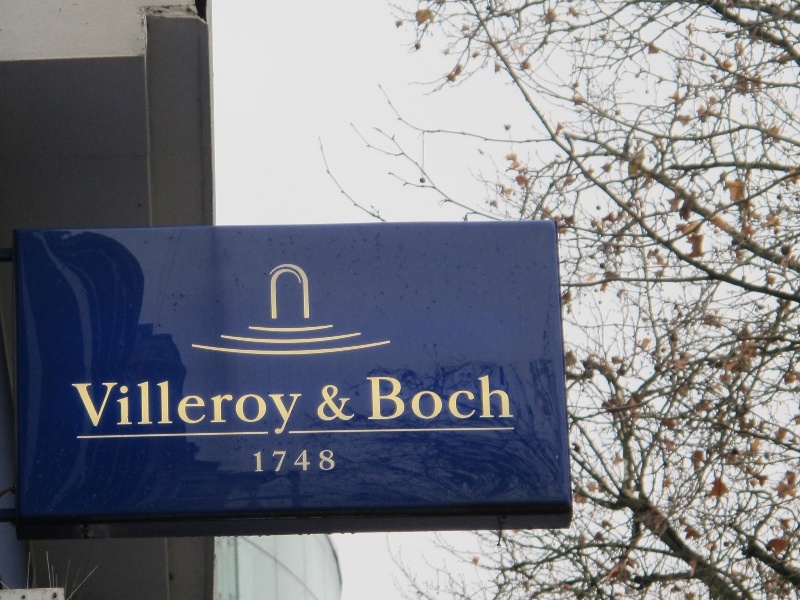text: (81, 378, 96, 440), (97, 378, 112, 440), (113, 378, 128, 440), (129, 378, 144, 440), (145, 378, 160, 440), (161, 378, 176, 440), (177, 378, 192, 440), (193, 378, 208, 440), (209, 378, 224, 440), (225, 378, 240, 440), (241, 378, 256, 440), (257, 378, 272, 440), (273, 378, 288, 440), (289, 378, 304, 440), (273, 262, 288, 320), (289, 262, 304, 320), (369, 375, 384, 421), (385, 375, 400, 421), (401, 375, 416, 421), (417, 375, 432, 421), (433, 375, 448, 421), (449, 375, 464, 421), (465, 375, 480, 421), (481, 375, 496, 421), (497, 375, 512, 421), (70, 378, 80, 440), (321, 385, 336, 423), (337, 385, 352, 423), (257, 450, 272, 474), (273, 450, 288, 474), (289, 450, 304, 474), (305, 450, 320, 474), (321, 450, 336, 474), (305, 262, 310, 320), (270, 262, 272, 320), (353, 385, 356, 423), (366, 375, 368, 421), (318, 385, 320, 423), (253, 450, 256, 474), (513, 375, 514, 421)
